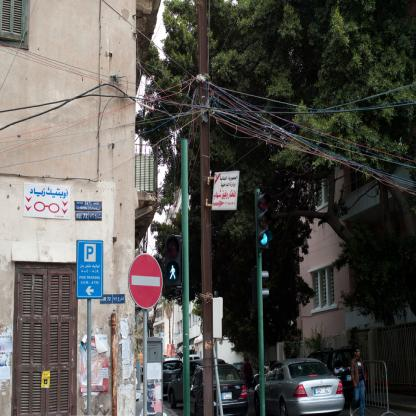Car: (254, 367, 347, 413), (188, 360, 250, 416), (170, 359, 210, 415), (161, 357, 182, 399)
